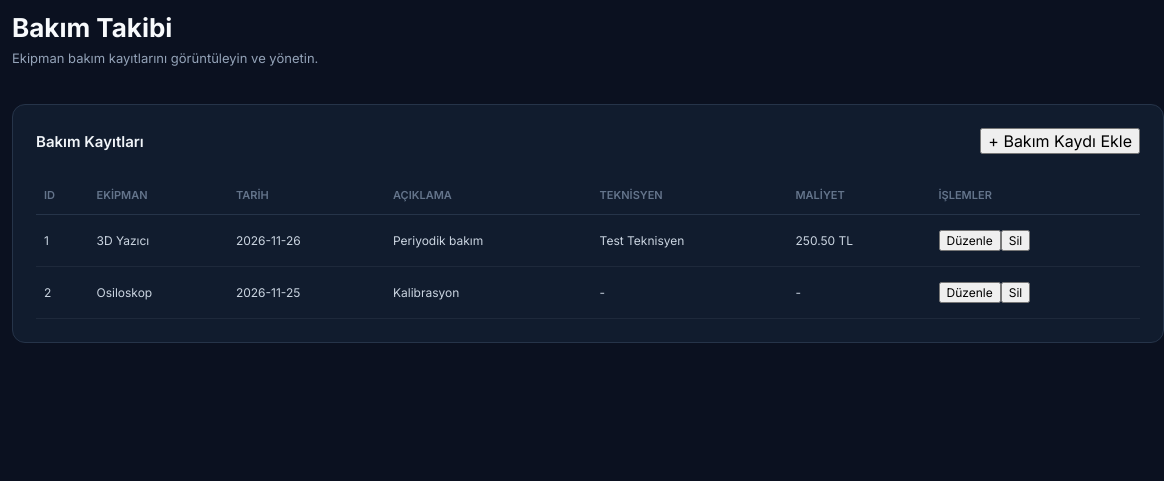
Maintenance component › opens the create form with equipment options
Click the button "+ Bakım Kaydı Ekle" at (1060, 141), box [980, 128, 1140, 154]
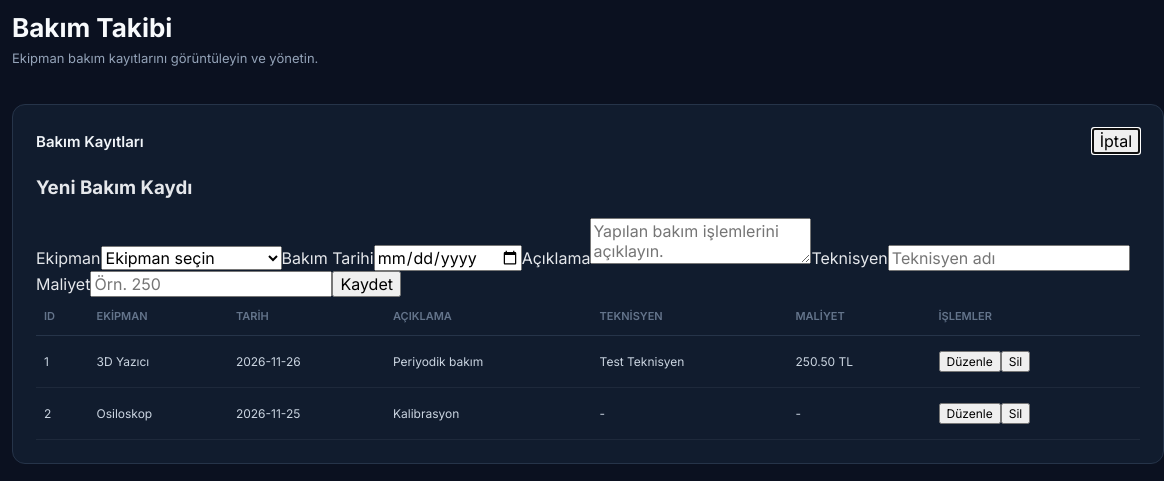
Result: the heading "Yeni Bakım Kaydı" is shown at [36, 176, 192, 199]
